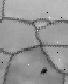good_void: (39, 65, 49, 76)
